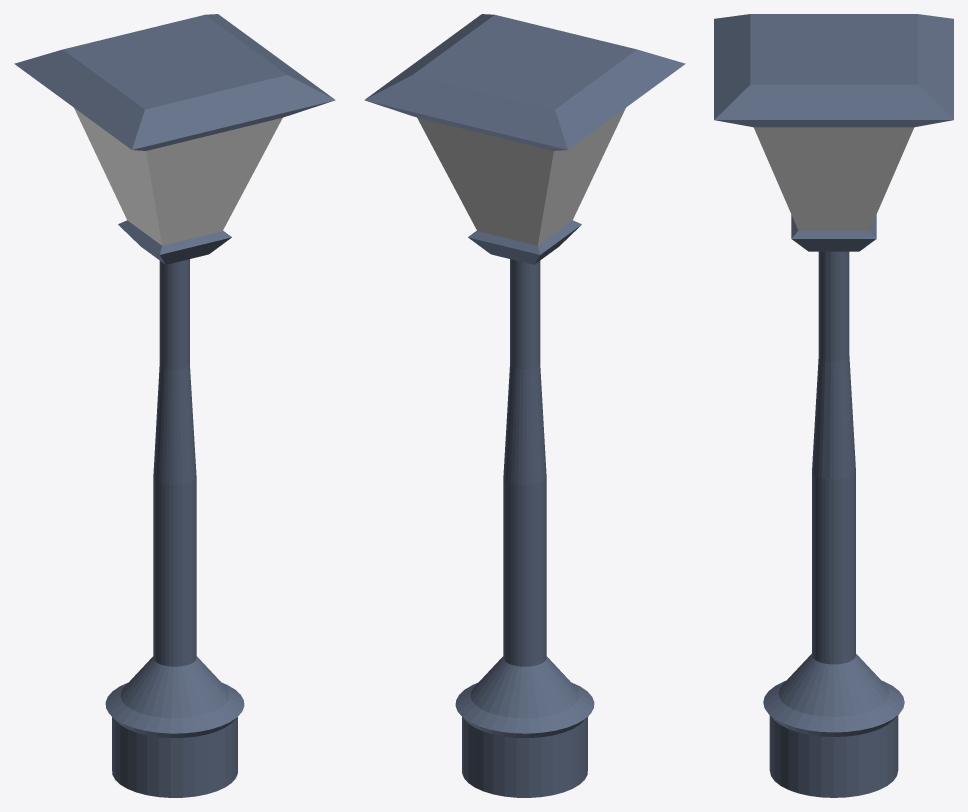
File: streetLight.fbx
The picture shows the model from 3 angles, left to right: view 1: azimuth 30°, elevation 25°; view 2: azimuth 150°, elevation 25°; view 3: azimuth 270°, elevation 25°; orthographic projection.
Visible parts, largest first — view 1: Cube, Circle; view 2: Cube, Circle; view 3: Cube, Circle.
Part boxes in pixels (left/top/right/bottom): Cube: left=14, top=14, right=335, bottom=264; Circle: left=105, top=259, right=244, bottom=797; Cube: left=364, top=14, right=685, bottom=264; Circle: left=455, top=259, right=594, bottom=797; Cube: left=714, top=14, right=953, bottom=251; Circle: left=763, top=251, right=904, bottom=797.
Size of the model in its own units: 50 by 166 by 50.
